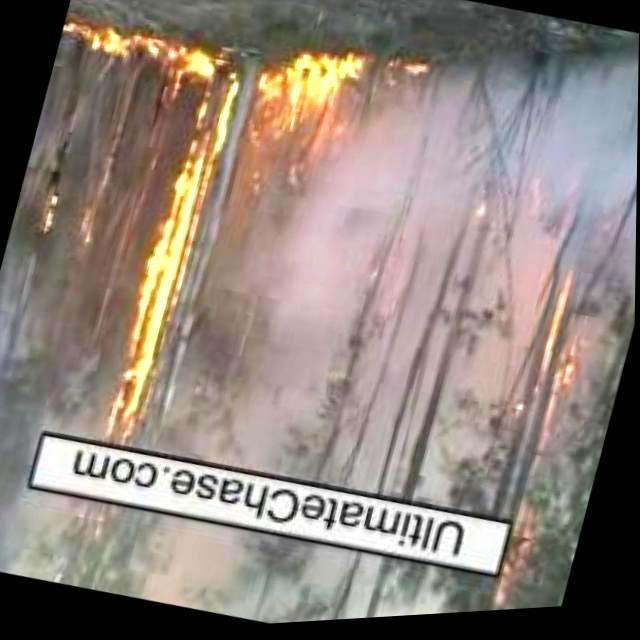fire: (45, 0, 354, 160), (88, 112, 224, 460), (518, 259, 610, 416), (484, 519, 550, 617), (37, 179, 71, 237)
